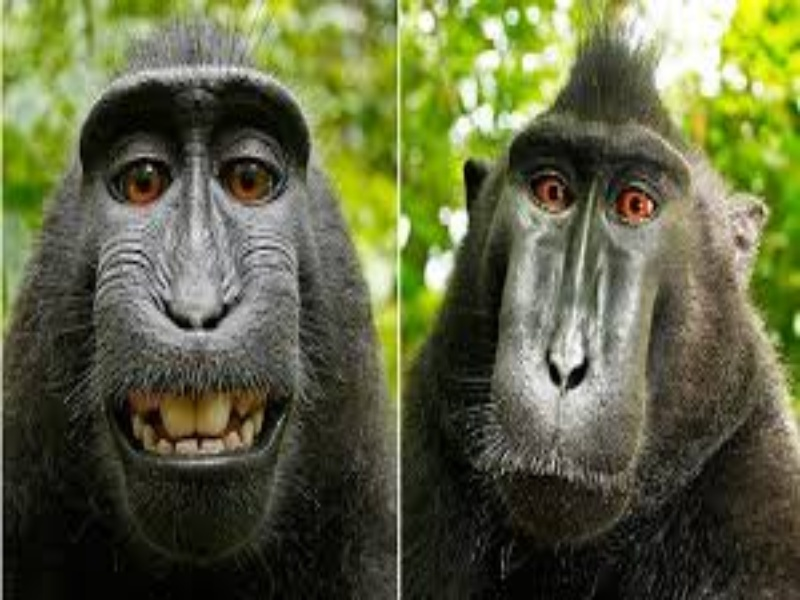monkey: (19, 37, 399, 600), (437, 48, 800, 600)
